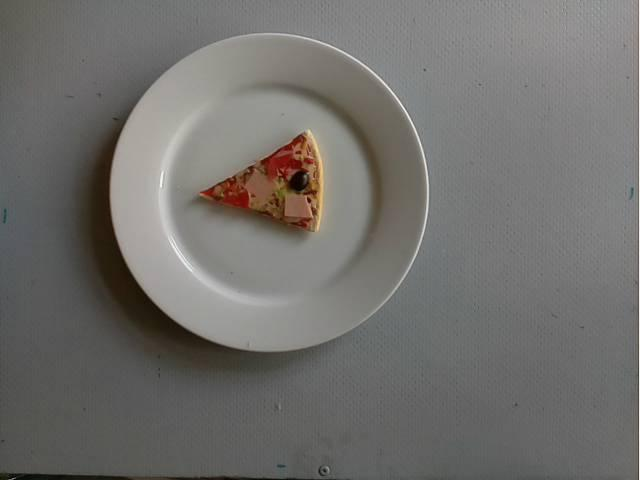Pizza slice (ham): (196, 126, 323, 239)
